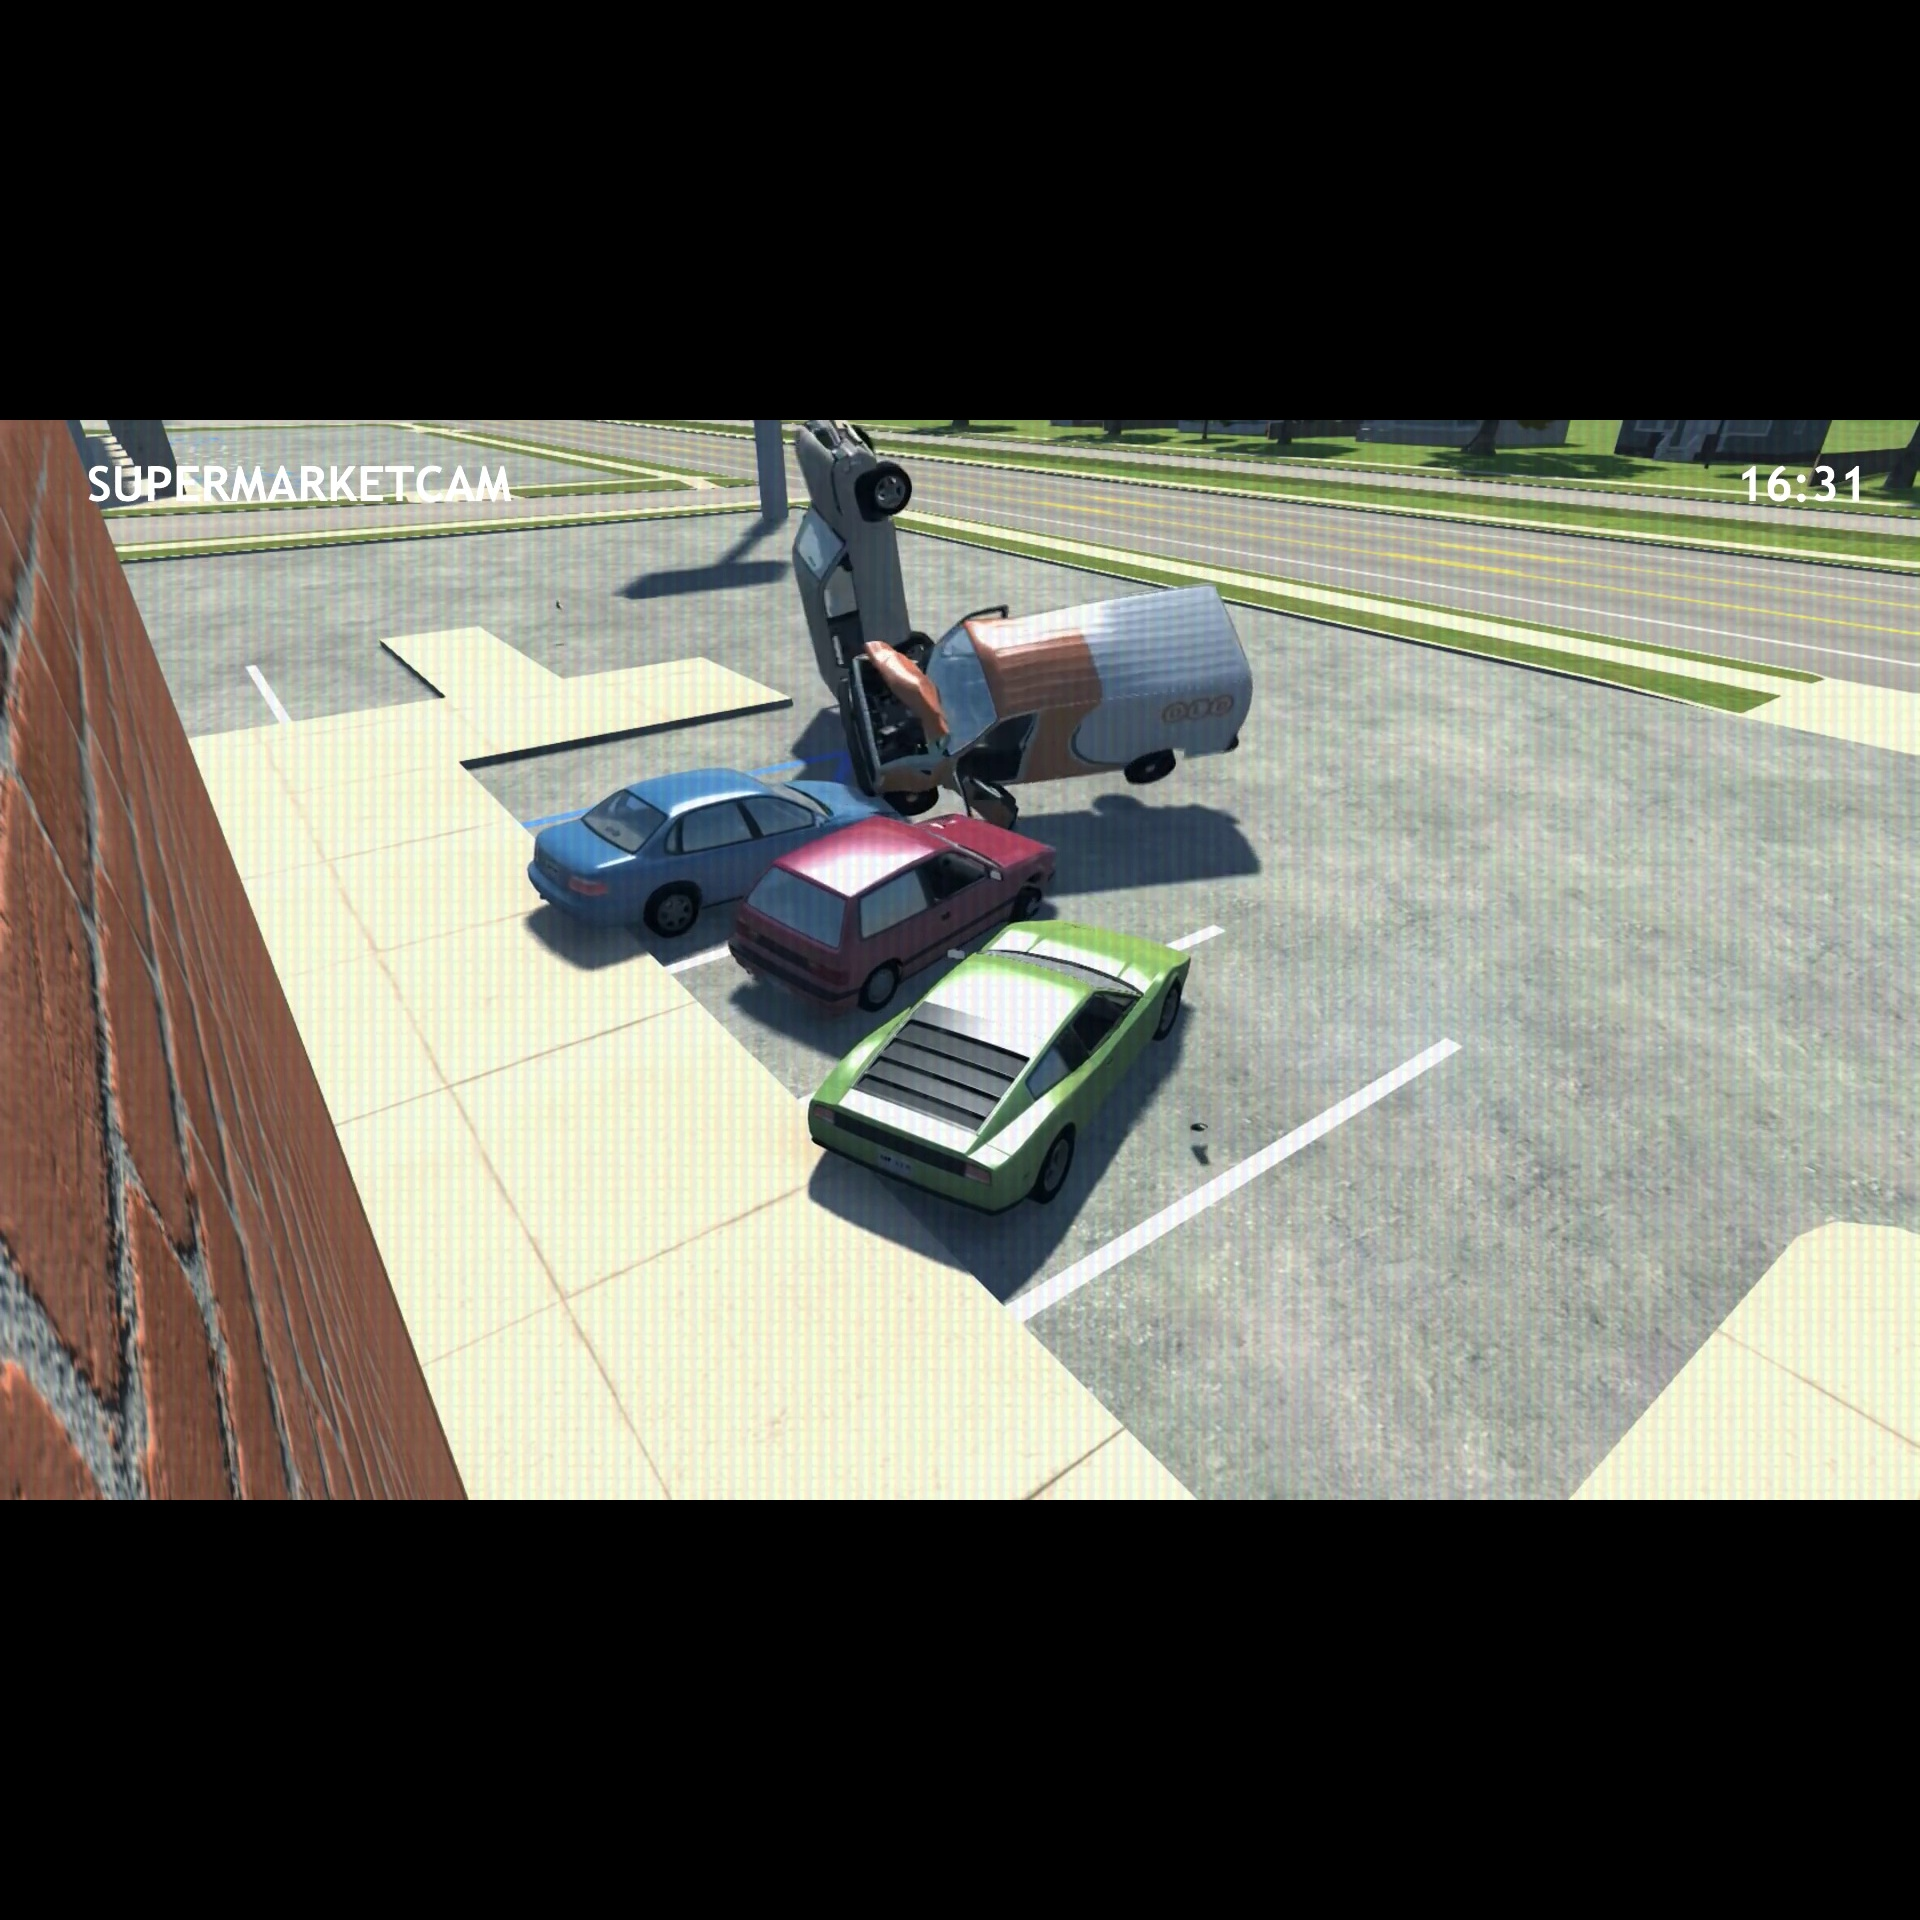vehicle: (807, 913, 1197, 1225), (847, 582, 1254, 809), (730, 811, 1065, 1015), (527, 772, 879, 920), (781, 418, 923, 659)
